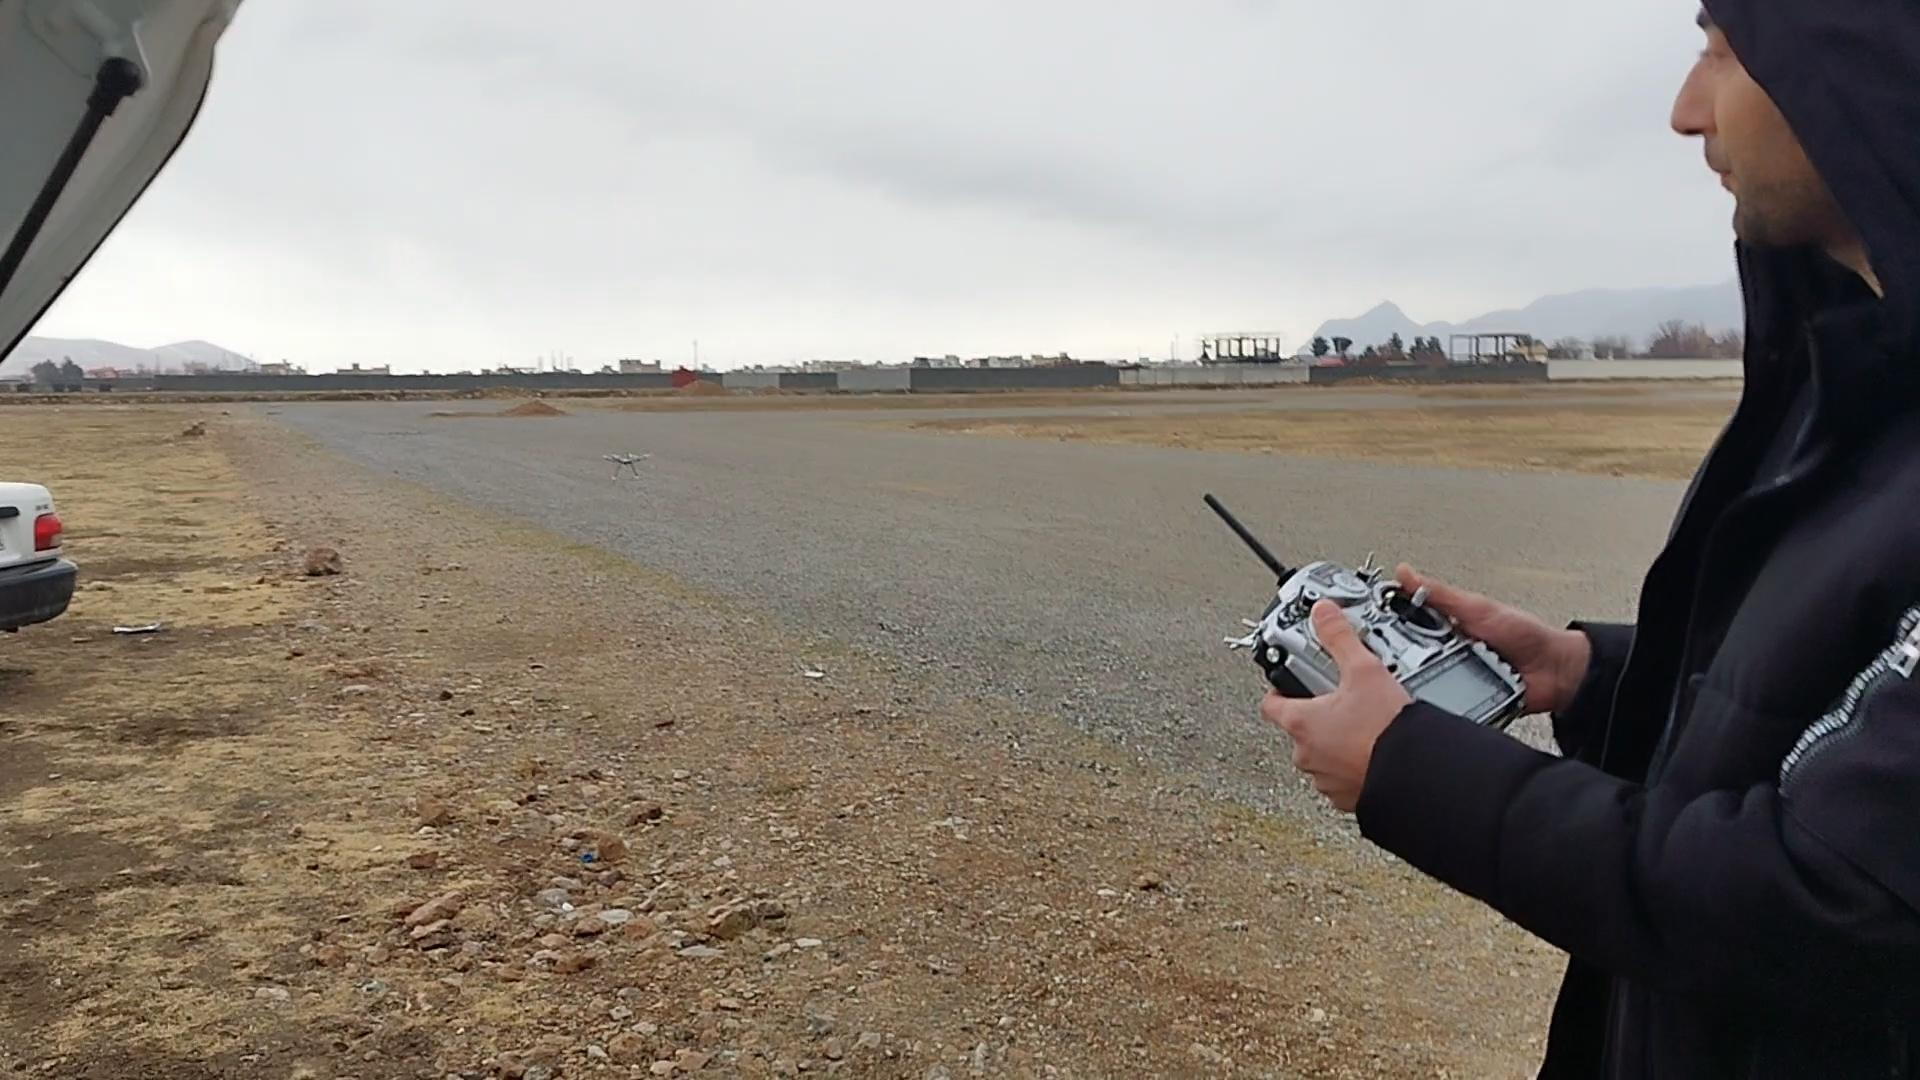drone: (599, 447, 653, 485)
